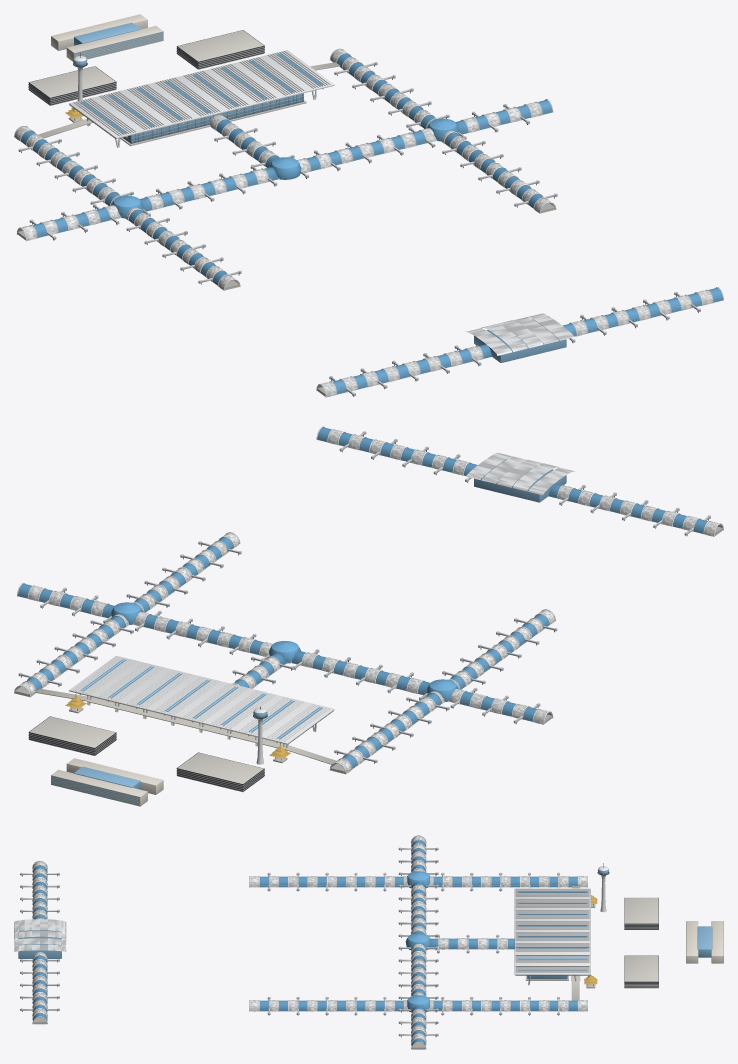
Rendered from suvarnabhumi.glb.
The picture shows the model from 3 angles, top to bottom: view 1: azimuth 30°, elevation 25°; view 2: azimuth 150°, elevation 25°; view 3: azimuth 270°, elevation 25°; orthographic projection. The views are drawn at different scales.
Visible parts, largest first — view 1: LOD0_TubeGlass, LOD0_Steel, LOD0_Roof, LOD0_Membrane, LOD0_Concrete, LOD0_Glass, LOD0_HotelWall, LOD0_Frame, LOD0_Dark, LOD1_Steel, LOD1_TubeGlass; view 2: LOD0_TubeGlass, LOD0_Steel, LOD0_Roof, LOD0_Membrane, LOD0_Concrete, LOD0_HotelWall, LOD0_Dark, LOD0_Glass, LOD1_Steel, LOD0_Frame, LOD1_Glass, LOD1_TubeGlass; view 3: LOD0_Steel, LOD0_Roof, LOD0_TubeGlass, LOD0_Membrane, LOD0_Concrete, LOD0_HotelWall, LOD0_Glass, LOD0_Frame, LOD1_Steel, LOD0_Dark, LOD1_TubeGlass, LOD1_Glass.
Boxes of the visible parts, x1=… form: LOD0_TubeGlass: x1=21, y1=53, x2=722, y2=394; LOD0_Steel: x1=14, y1=48, x2=723, y2=395; LOD0_Roof: x1=69, y1=50, x2=574, y2=355; LOD0_Membrane: x1=14, y1=49, x2=712, y2=396; LOD0_Concrete: x1=17, y1=30, x2=723, y2=396; LOD0_Glass: x1=73, y1=22, x2=566, y2=362; LOD0_HotelWall: x1=51, y1=14, x2=163, y2=61; LOD0_Frame: x1=18, y1=62, x2=700, y2=396; LOD0_Dark: x1=21, y1=30, x2=698, y2=396; LOD1_Steel: x1=17, y1=57, x2=703, y2=397; LOD1_TubeGlass: x1=37, y1=58, x2=722, y2=390; LOD0_TubeGlass: x1=18, y1=427, x2=707, y2=768; LOD0_Steel: x1=14, y1=426, x2=716, y2=774; LOD0_Roof: x1=69, y1=452, x2=574, y2=744; LOD0_Membrane: x1=15, y1=429, x2=722, y2=773; LOD0_Concrete: x1=15, y1=437, x2=722, y2=791; LOD0_HotelWall: x1=51, y1=758, x2=163, y2=806; LOD0_Dark: x1=21, y1=435, x2=708, y2=791; LOD0_Glass: x1=51, y1=458, x2=553, y2=805; LOD1_Steel: x1=34, y1=431, x2=723, y2=764; LOD0_Frame: x1=18, y1=431, x2=710, y2=762; LOD1_Glass: x1=77, y1=475, x2=566, y2=789; LOD1_TubeGlass: x1=20, y1=437, x2=700, y2=756; LOD0_Steel: x1=23, y1=836, x2=608, y2=1049; LOD0_Roof: x1=14, y1=888, x2=590, y2=975; LOD0_TubeGlass: x1=33, y1=840, x2=587, y2=1045; LOD0_Membrane: x1=32, y1=836, x2=587, y2=1043; LOD0_Concrete: x1=33, y1=841, x2=658, y2=1049; LOD0_HotelWall: x1=686, y1=921, x2=723, y2=963; LOD0_Glass: x1=18, y1=869, x2=723, y2=979; LOD0_Frame: x1=20, y1=847, x2=567, y2=1036; LOD1_Steel: x1=32, y1=835, x2=606, y2=1041; LOD0_Dark: x1=22, y1=850, x2=658, y2=1037; LOD1_TubeGlass: x1=260, y1=840, x2=577, y2=1048; LOD1_Glass: x1=18, y1=871, x2=711, y2=979.
Bounding box in the file's own units: 1352 × 146 × 1960.
